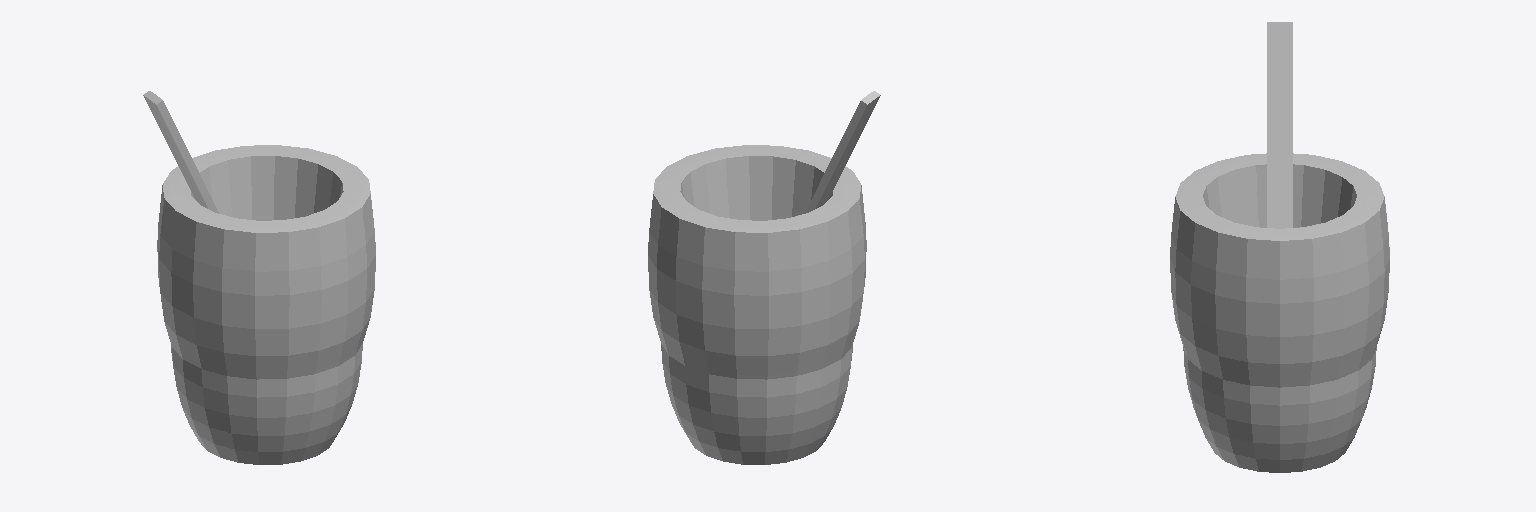
File: CoffeeMug.obj
The picture shows the model from 3 angles: view 1: azimuth 30°, elevation 25°; view 2: azimuth 150°, elevation 25°; view 3: azimuth 270°, elevation 25°; orthographic projection.
Parts seen in each view (by area): view 1: polySurface4, pCube1; view 2: polySurface4, pCube1; view 3: polySurface4, pCube1.
Boxes of the visible parts, x1=… form: polySurface4: x1=157, y1=145, x2=375, y2=464; pCube1: x1=143, y1=91, x2=218, y2=213; polySurface4: x1=648, y1=145, x2=866, y2=464; pCube1: x1=805, y1=91, x2=880, y2=213; polySurface4: x1=1170, y1=153, x2=1389, y2=472; pCube1: x1=1267, y1=22, x2=1292, y2=228.
Size of the model in its own units: 2.53 by 4.21 by 2.27.